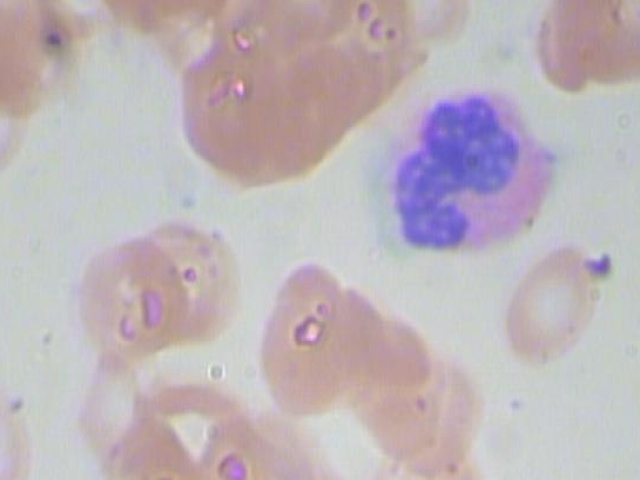RBC: (169, 32, 306, 182), (489, 241, 619, 379), (68, 226, 198, 364), (128, 210, 258, 348), (37, 338, 167, 476), (252, 251, 361, 415), (375, 317, 460, 479), (309, 261, 393, 423), (346, 293, 430, 455), (410, 322, 494, 480), (523, 0, 637, 110), (0, 0, 92, 114), (229, 0, 368, 57), (171, 426, 308, 480), (0, 52, 50, 182), (373, 0, 484, 54), (0, 376, 42, 480), (379, 453, 509, 480)
WBC: (386, 79, 565, 271)
